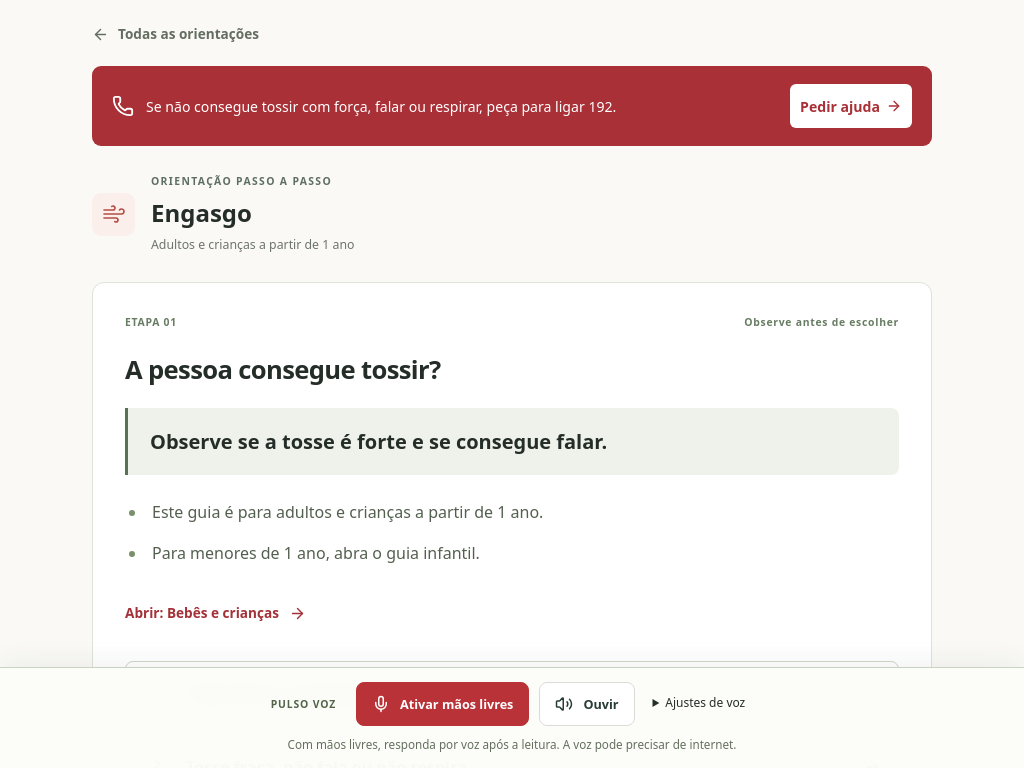
Test: voice cannot skip a question; a clear voice choice proceeds without a touch confirmation
The width and height of the screenshot is (1024, 768).
What coordinates should you click on to do the following:
click the heading "Ajustes de voz"
I would click on:
 (705, 703)
Its box is x1=665 y1=694 x2=745 y2=712.
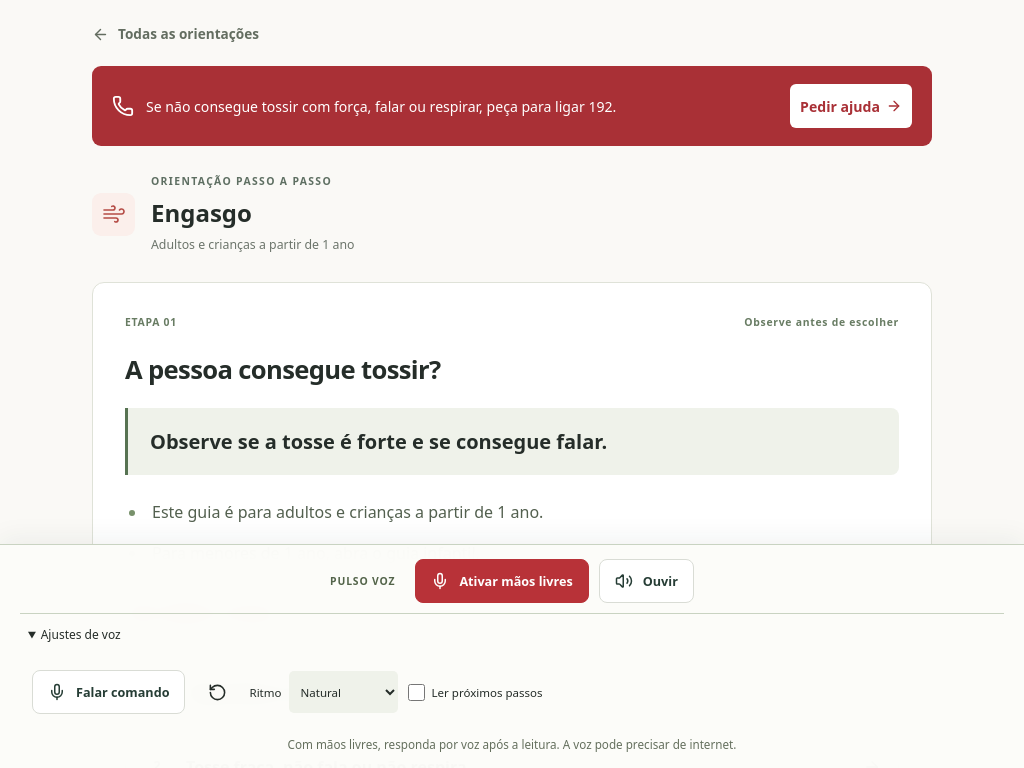
What coordinates should you click on to do the following:
click the button "Falar comando"
I would click on:
 (109, 692)
Its box is x1=32 y1=670 x2=186 y2=714.
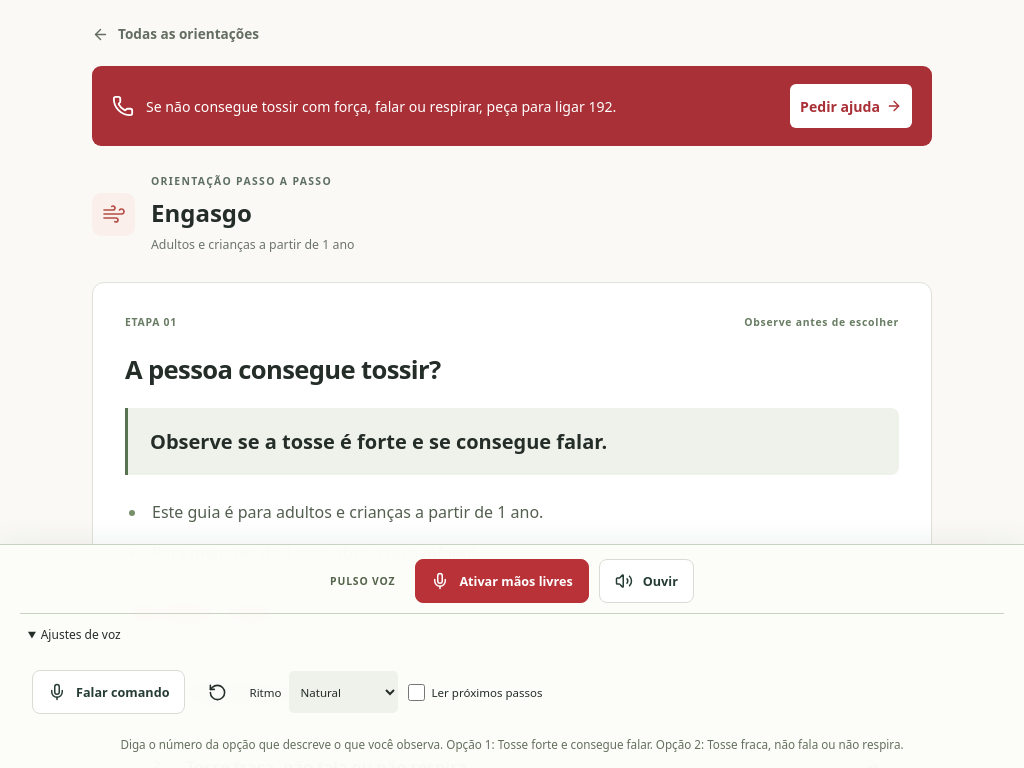
Expected: the heading "A pessoa consegue tossir?" is shown, x1=125 y1=352 x2=440 y2=387
What coordinates should you click on to do the following:
click the button "Falar comando"
I would click on:
 (109, 692)
Its box is x1=32 y1=670 x2=186 y2=714.
(page scrolled)
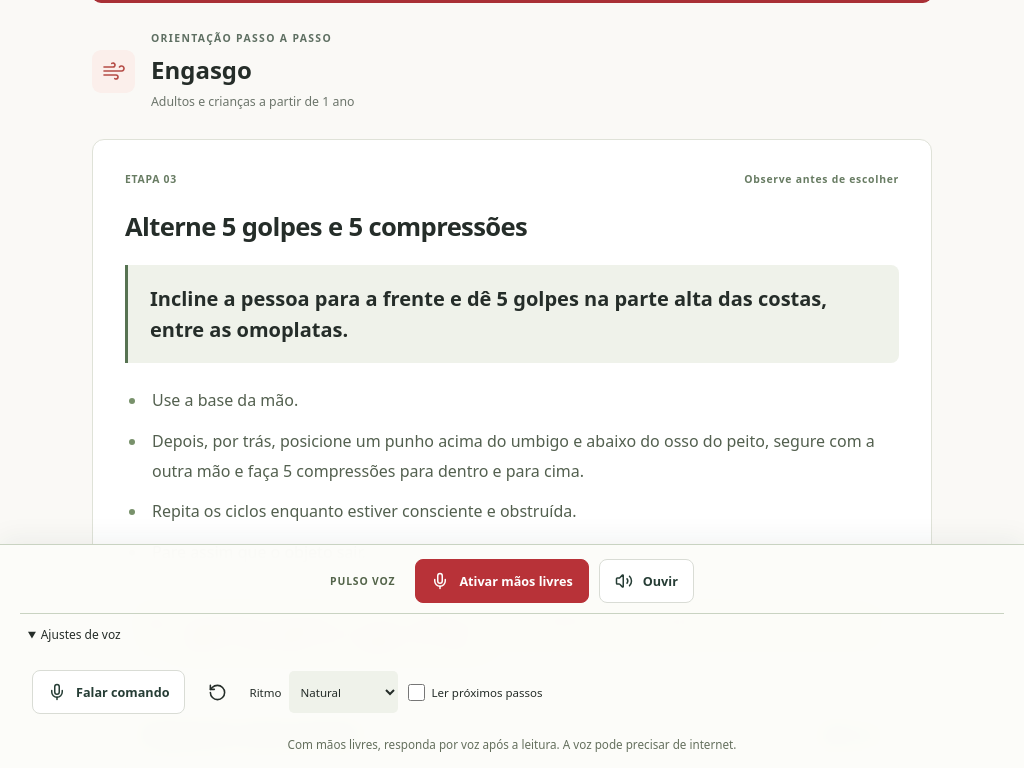
Expected: the heading "Alterne 5 golpes e 5 compressões" is shown, x1=125 y1=209 x2=527 y2=244
What coordinates should you click on to do the following:
click the button "Falar comando"
I would click on:
 (109, 692)
Its box is x1=32 y1=670 x2=186 y2=714.
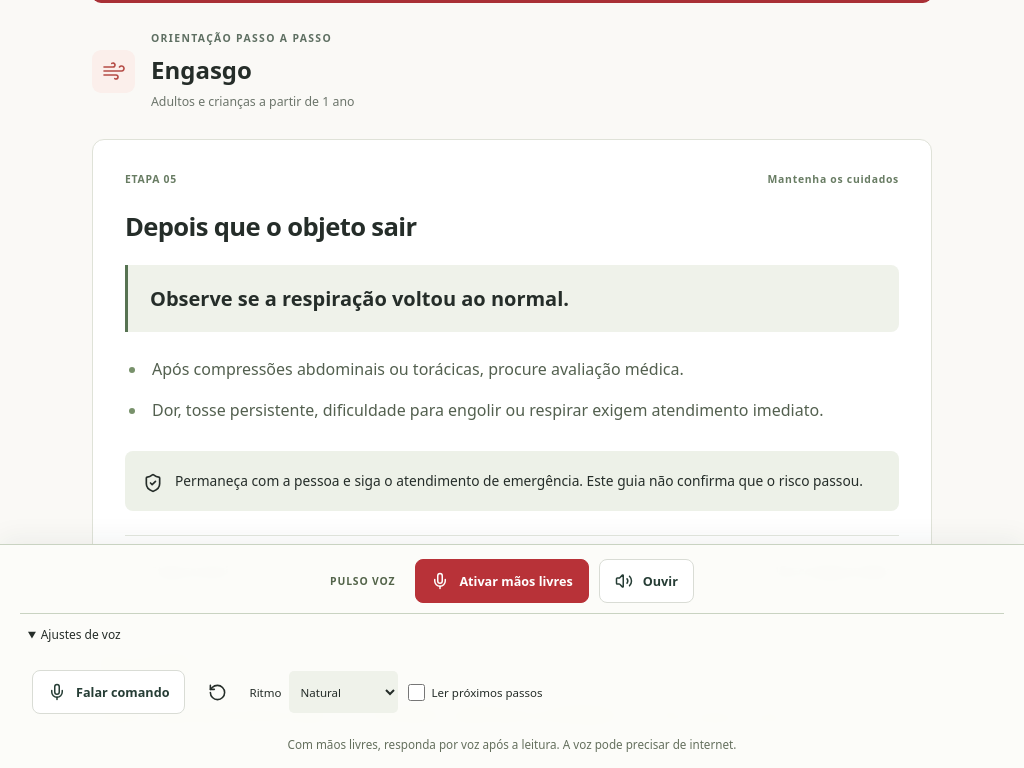
Expected: the heading "Depois que o objeto sair" is shown, x1=125 y1=209 x2=416 y2=244
